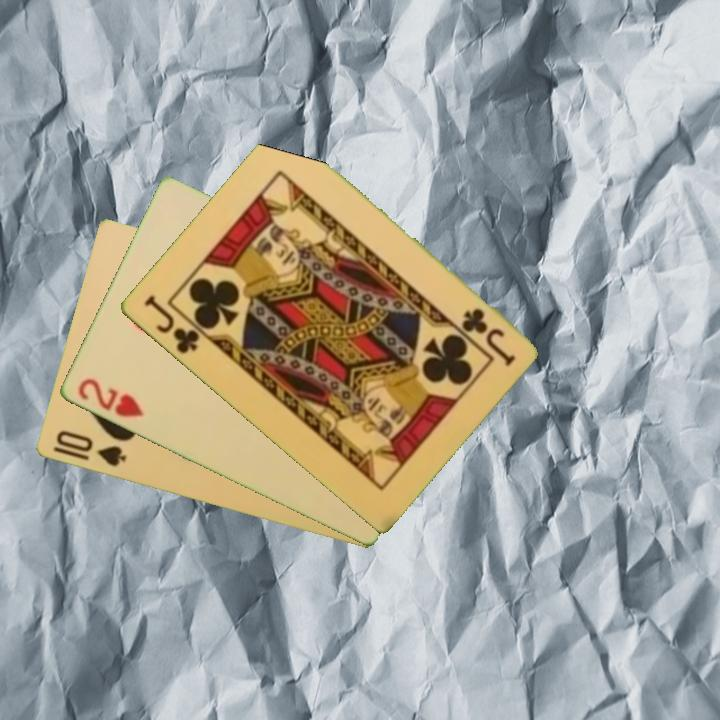10s: (52, 427, 129, 470)
2h: (73, 375, 146, 421)
Jc: (139, 292, 202, 357), (457, 304, 518, 368)
